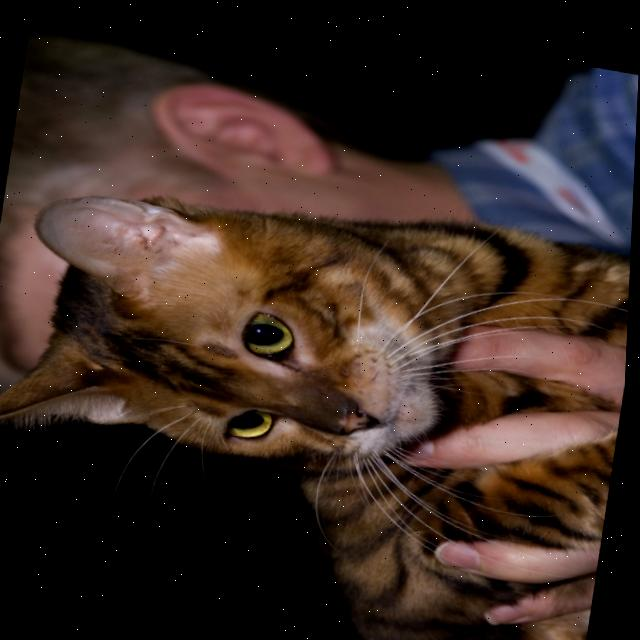Toyger: (0, 135, 635, 640)
